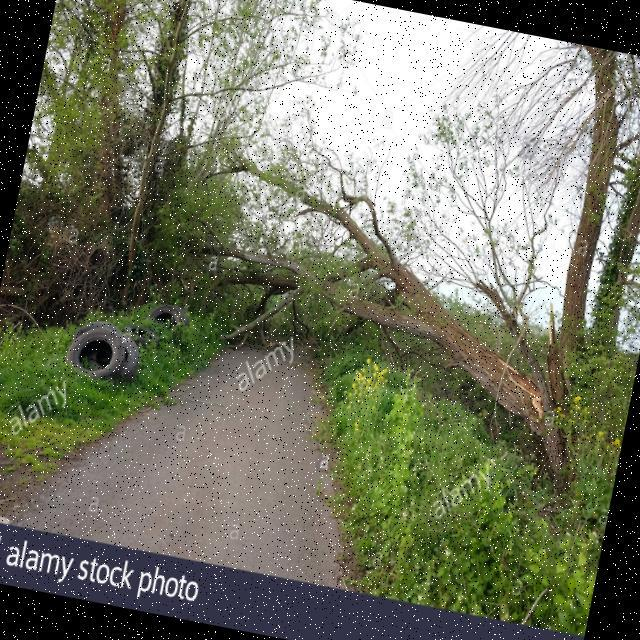fallen_object: (168, 165, 609, 474)
